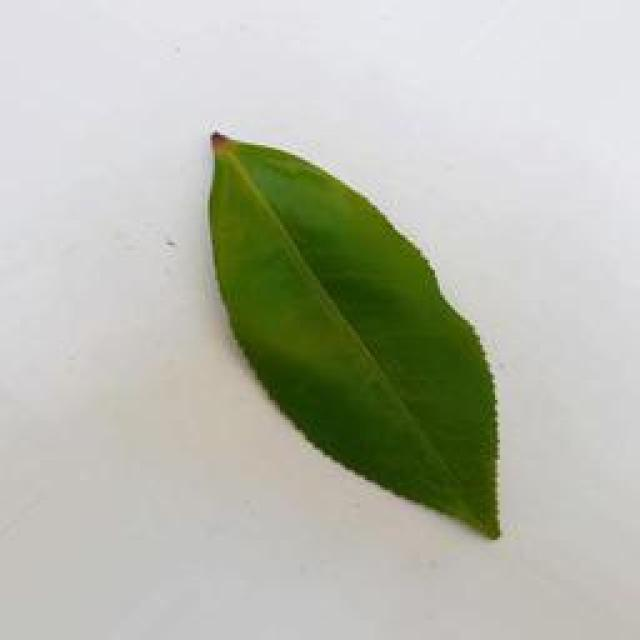Healthy: (181, 116, 514, 551)
